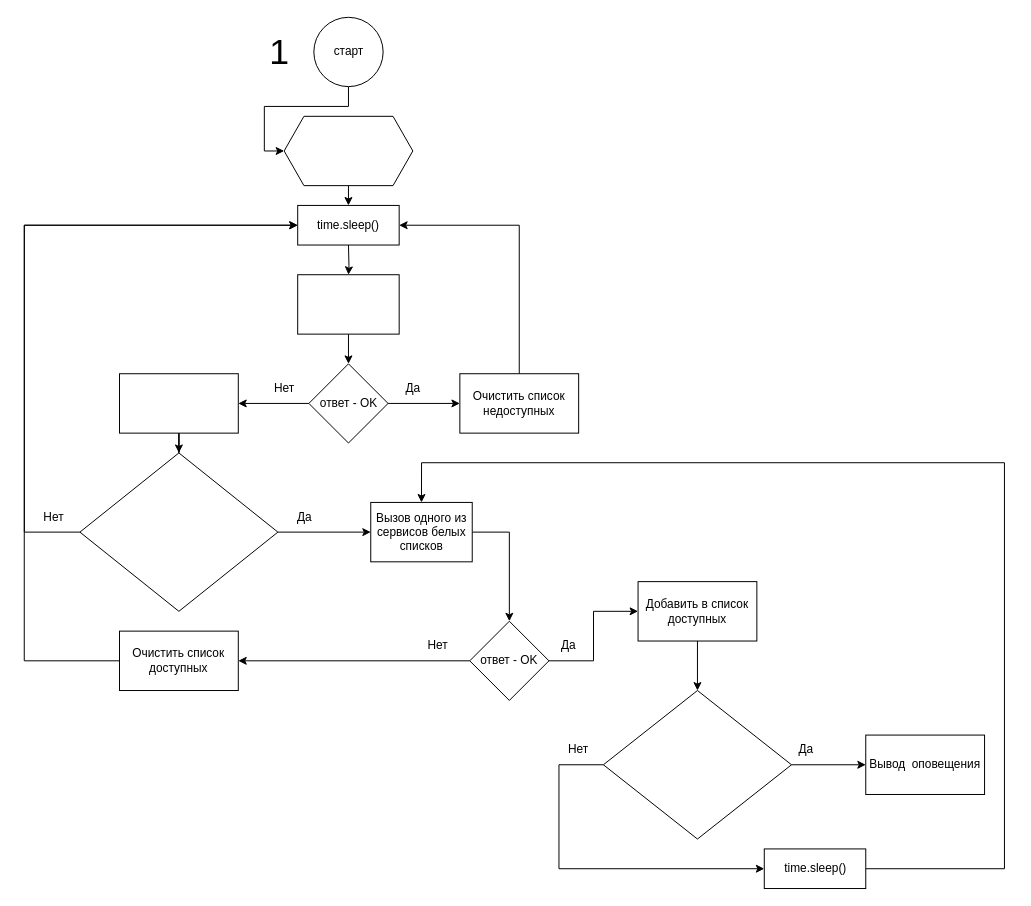
This 1031x906 diagram has some shape labels left out. The centre of each missing label's shape, as x and y in pixels:
"while True" goes at pixel 348 150.
"Вызов одного из сервисов вне белых списков" goes at pixel 348 304.
"длина списка доступных == кол-ву всех сервисов из wl" goes at pixel 697 764.
"Длина списка недоступных == кол-ву всех сервисов не из wl" goes at pixel 178 531.
"Добавить сервис в список недоступных" goes at pixel 178 403.
